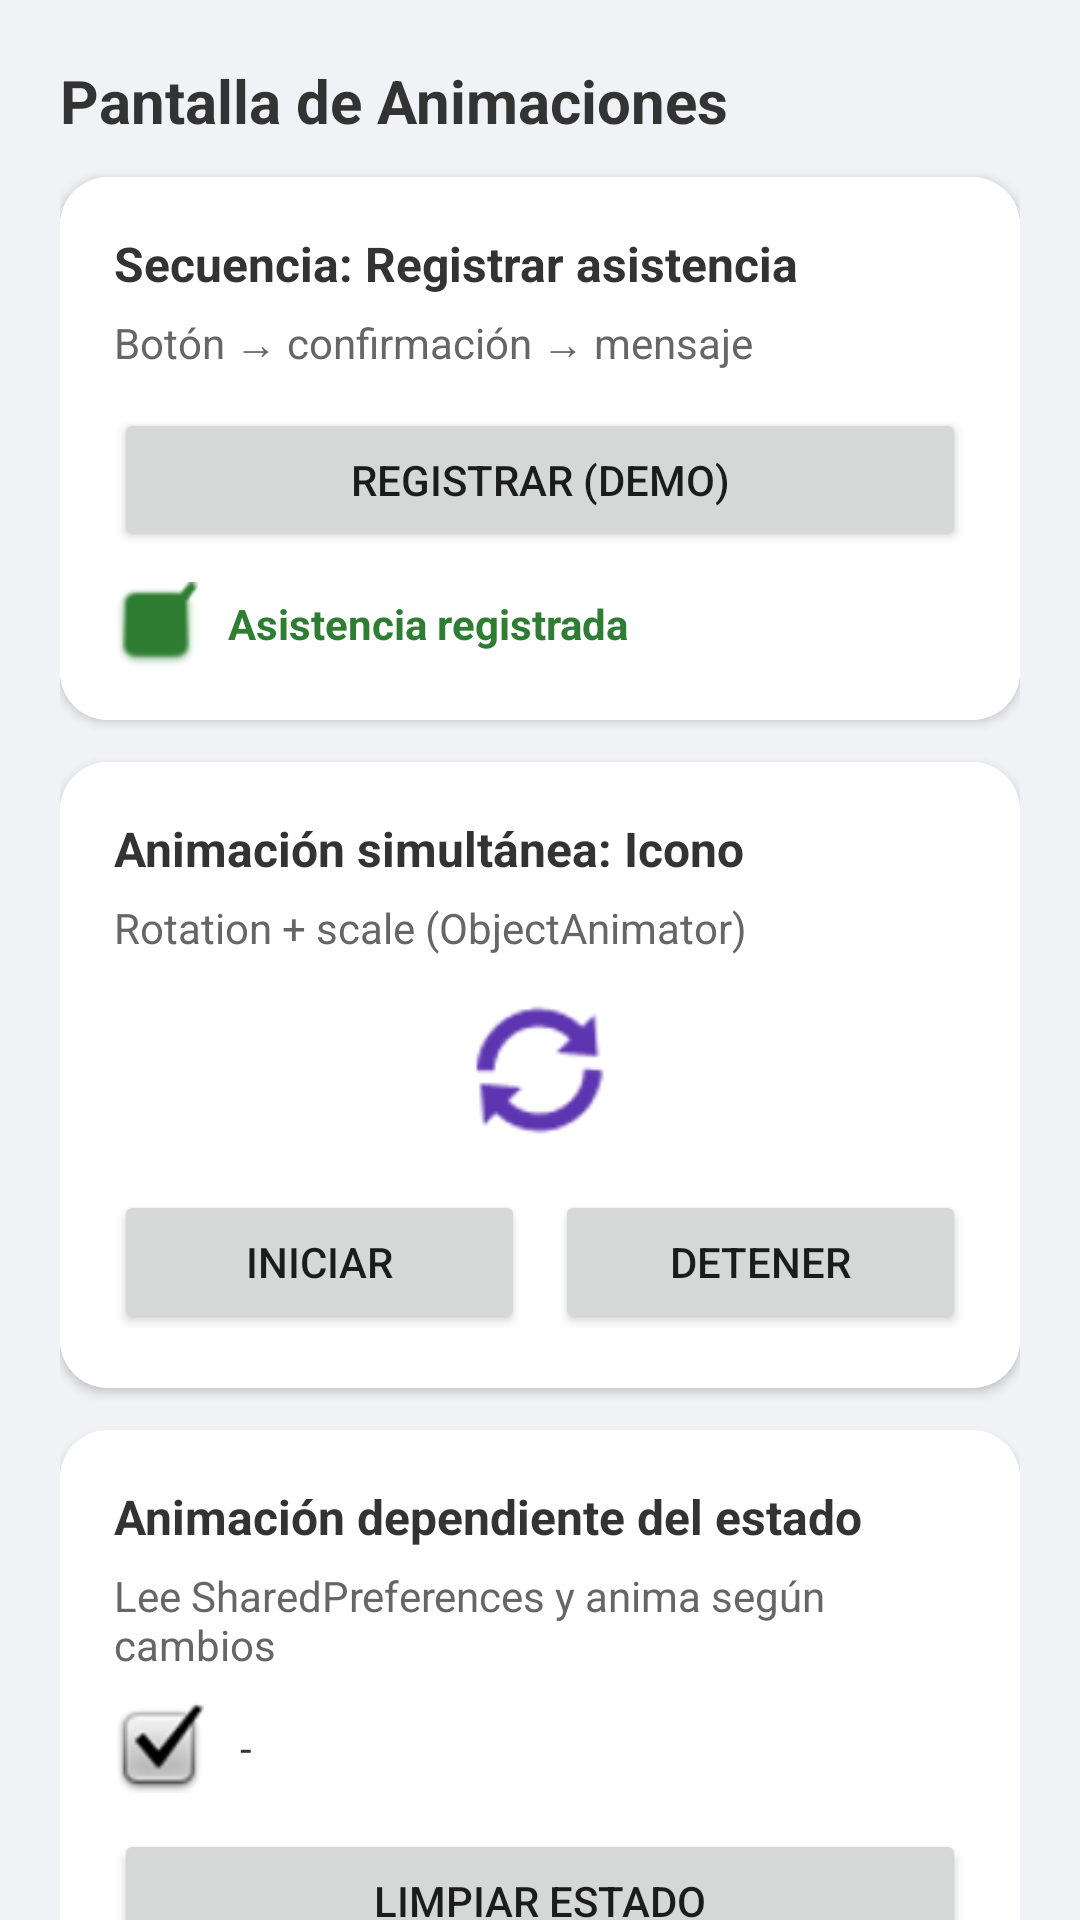

Screen size 1080px x 1920px. Icon name, then its center in pixels as (x,y):
popup sync: (540,1070)
